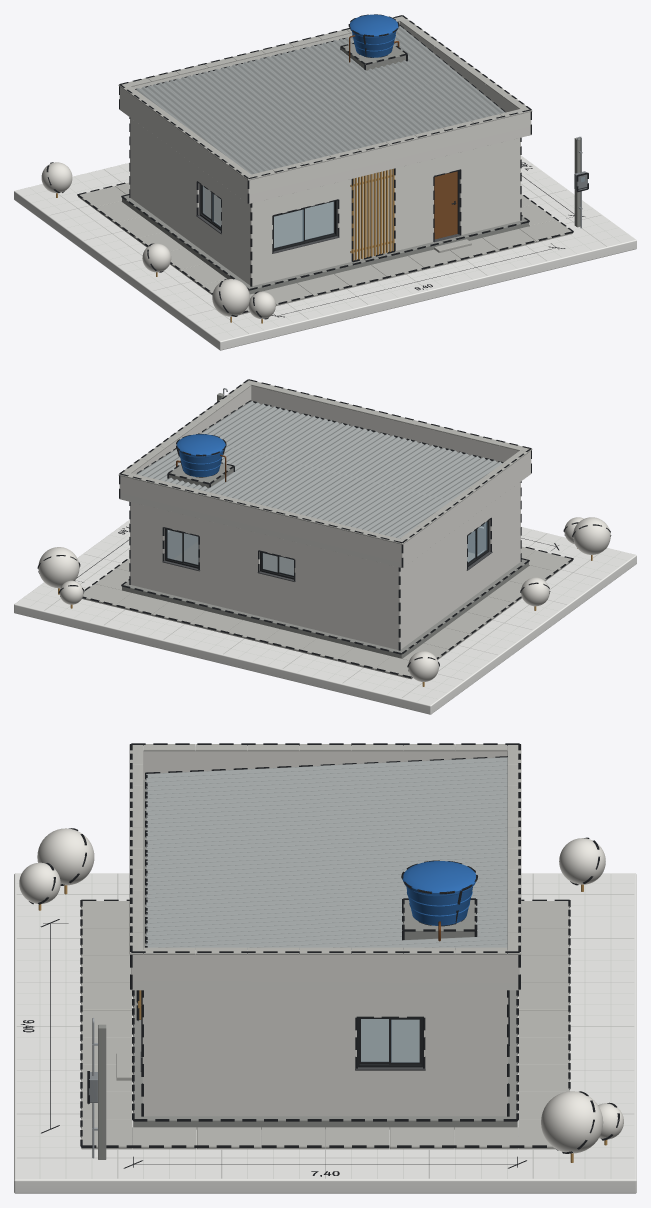
Rendered from maquete.glb.
3 renders of one model, top to bottom at view 1: azimuth 30°, elevation 25°; view 2: azimuth 150°, elevation 25°; view 3: azimuth 270°, elevation 25°, orthographic. The views are drawn at different scales.
Parts seen in each view (by area): view 1: pintura_paredes, cobertura_telhas, base, revestimentos_calcada, revestimentos_pingadeira, revestimentos_ripado, acabamento_esquadrias, fundacao_radier, acabamento_arvores, reboco_contrapiso, hidraulica_caixa_dagua, fantasma_fase_02 (+7 smaller); view 2: pintura_paredes, base, cobertura_telhas, revestimentos_calcada, revestimentos_pingadeira, acabamento_arvores, fundacao_radier, acabamento_esquadrias, hidraulica_caixa_dagua, fantasma_fase_02, fantasma_fase_07, reboco_contrapiso (+3 smaller); view 3: base, pintura_paredes, cobertura_telhas, revestimentos_calcada, revestimentos_pingadeira, acabamento_arvores, fundacao_radier, hidraulica_caixa_dagua, acabamento_esquadrias, fantasma_fase_02, reboco_contrapiso, fantasma_fase_07 (+7 smaller).
Boxes of the visible parts, bbox=[...] form: pintura_paredes: bbox=[119, 21, 531, 285]; cobertura_telhas: bbox=[136, 25, 504, 174]; base: bbox=[14, 155, 636, 350]; revestimentos_calcada: bbox=[78, 182, 572, 314]; revestimentos_pingadeira: bbox=[118, 16, 532, 180]; revestimentos_ripado: bbox=[350, 168, 394, 260]; acabamento_esquadrias: bbox=[199, 171, 459, 251]; fundacao_radier: bbox=[122, 195, 528, 294]; acabamento_arvores: bbox=[41, 162, 275, 323]; reboco_contrapiso: bbox=[205, 188, 333, 247]; hidraulica_caixa_dagua: bbox=[350, 14, 398, 57]; fantasma_fase_02: bbox=[119, 15, 531, 286]; pintura_paredes: bbox=[119, 386, 531, 649]; base: bbox=[14, 520, 636, 714]; cobertura_telhas: bbox=[136, 401, 501, 538]; revestimentos_calcada: bbox=[82, 546, 572, 679]; revestimentos_pingadeira: bbox=[118, 380, 532, 544]; acabamento_arvores: bbox=[38, 517, 610, 686]; fundacao_radier: bbox=[122, 559, 528, 658]; acabamento_esquadrias: bbox=[164, 520, 489, 579]; hidraulica_caixa_dagua: bbox=[176, 434, 225, 476]; fantasma_fase_02: bbox=[119, 379, 531, 650]; fantasma_fase_07: bbox=[82, 547, 573, 678]; reboco_contrapiso: bbox=[174, 542, 474, 575]; base: bbox=[14, 873, 636, 1193]; pintura_paredes: bbox=[131, 746, 519, 1116]; cobertura_telhas: bbox=[146, 757, 507, 949]; revestimentos_calcada: bbox=[81, 901, 569, 1149]; revestimentos_pingadeira: bbox=[129, 744, 521, 954]; acabamento_arvores: bbox=[19, 828, 623, 1162]; fundacao_radier: bbox=[133, 990, 517, 1129]; hidraulica_caixa_dagua: bbox=[402, 861, 476, 925]; acabamento_esquadrias: bbox=[357, 1017, 423, 1067]; fantasma_fase_02: bbox=[130, 743, 520, 1116]; reboco_contrapiso: bbox=[361, 1019, 419, 1061]; fantasma_fase_07: bbox=[80, 899, 570, 1147].
Bounding box in the file's own units: 14 × 4.94 × 12.
